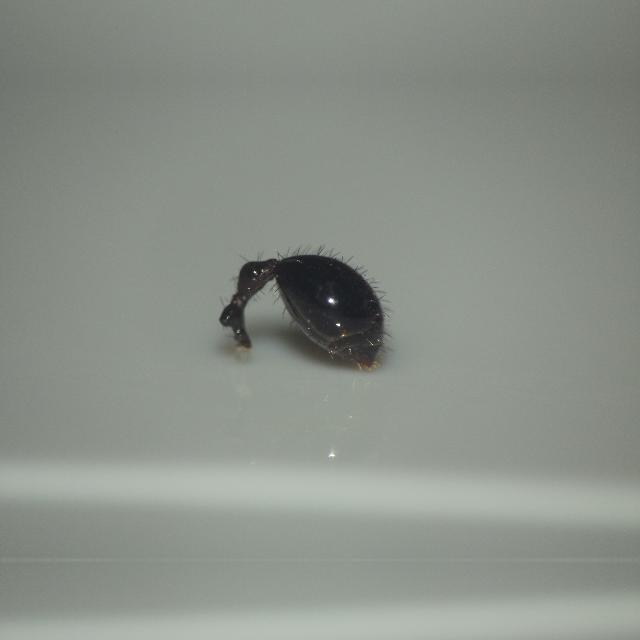Apheanogaster: (184, 218, 426, 392)
